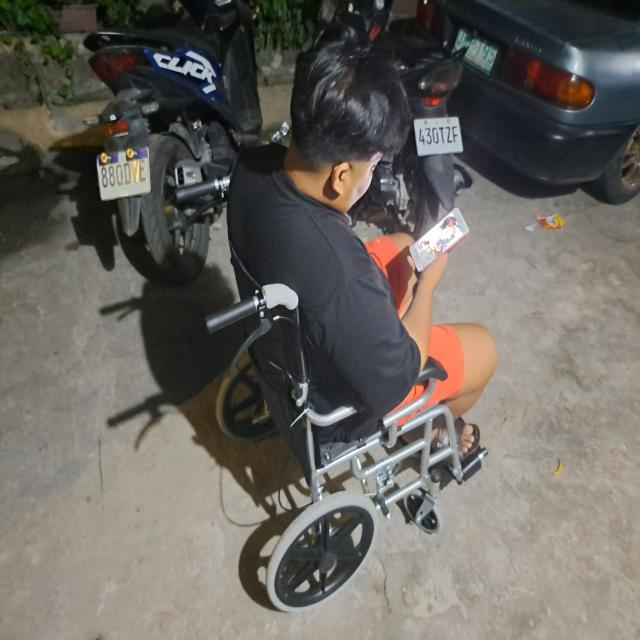wheelchairs: (174, 179, 501, 618)
